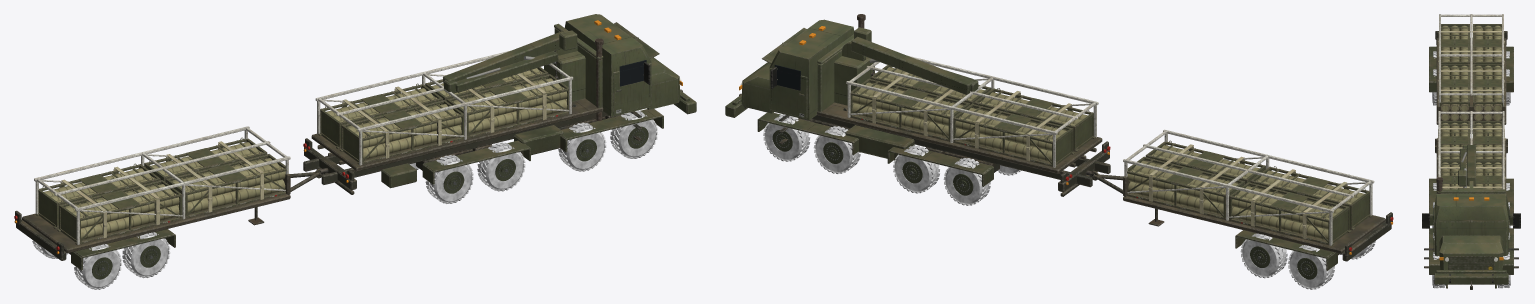
The model's file is hemtt-pod-carrier.glb.
3 views of the same model, side by side, from view 1: azimuth 30°, elevation 25°; view 2: azimuth 150°, elevation 25°; view 3: azimuth 270°, elevation 25° (orthographic). The views are drawn at different scales.
Parts seen in each view (by area): view 1: body, rack, chassis, tyres, cab, pod_7, pod_3, pod_1, pod_5, pod_2, pod_6, rims (+3 smaller); view 2: body, rack, chassis, tyres, cab, pod_6, pod_2, pod_0, pod_4, pod_7, pod_3, rims (+3 smaller); view 3: cab, rack, body, chassis, pod_4, pod_5, pod_6, pod_7, pod_2, pod_3, pod_0, tyres (+1 smaller).
Boxes of the visible parts, box(x1,y1,x2,y2) form: body: box(22, 23, 603, 253); rack: box(34, 50, 573, 245); chassis: box(14, 38, 682, 270); tyres: box(32, 110, 658, 289); cab: box(564, 14, 696, 116); pod_7: box(57, 179, 182, 244); pod_3: box(339, 99, 463, 164); pod_1: box(446, 73, 568, 138); pod_5: box(165, 153, 286, 218); pod_2: box(318, 83, 442, 148); pod_6: box(35, 163, 160, 229); rims: box(92, 126, 648, 279); body: box(817, 27, 1385, 253); rack: box(846, 55, 1374, 245); chassis: box(739, 14, 1393, 270); tyres: box(763, 114, 1375, 289); cab: box(725, 19, 854, 120); pod_6: box(1228, 181, 1351, 245); pod_2: box(953, 103, 1074, 166); pod_0: box(850, 78, 969, 141); pod_4: box(1127, 156, 1244, 220); pod_7: box(1250, 166, 1372, 230); pod_3: box(974, 88, 1095, 151); rims: box(772, 130, 1317, 279); cab: box(1422, 194, 1520, 288); rack: box(1437, 14, 1505, 189); body: box(1436, 38, 1506, 193); chassis: box(1424, 31, 1518, 289); pod_4: box(1473, 64, 1503, 120); pod_5: box(1439, 64, 1469, 120); pod_6: box(1473, 24, 1501, 63); pod_7: box(1441, 24, 1469, 63); pod_2: box(1473, 121, 1502, 160); pod_3: box(1440, 121, 1469, 160); pod_0: box(1473, 160, 1502, 189); tyres: box(1432, 51, 1510, 288).
Bounding box in the file's own units: 18.74 × 3.43 × 3.24.
Materials: 8 (8 with a texture image).
